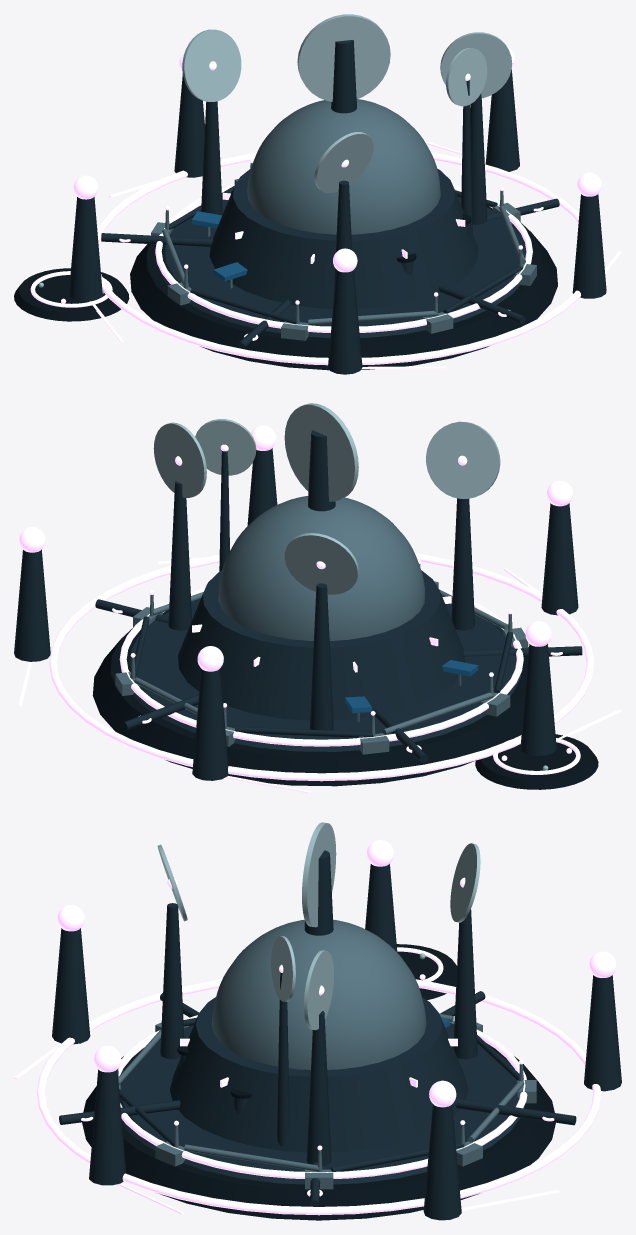
File: researchLab-stage3.glb
The picture shows the model from 3 angles, top to bottom: view 1: azimuth 30°, elevation 25°; view 2: azimuth 150°, elevation 25°; view 3: azimuth 270°, elevation 25°; orthographic projection. The views are drawn at different scales.
Visible parts, largest first — view 1: laboratory-base, observatory-dome, armored-foundation, upper-deck, district-grid-2, deep-space-dish, deep-space-array-2, landing-pad, perimeter-light, energy-pylon-0, energy-pylon-1, energy-pylon-4 (+19 smaller); view 2: laboratory-base, observatory-dome, armored-foundation, upper-deck, district-grid-2, deep-space-array-1, deep-space-dish, landing-pad, perimeter-light, deep-space-array-2, energy-pylon-3, energy-pylon-2 (+21 smaller); view 3: laboratory-base, observatory-dome, armored-foundation, upper-deck, district-grid-2, perimeter-light, energy-pylon-3, energy-pylon-0, energy-pylon-2, energy-pylon-4, array-mast-1, array-mast-2 (+18 smaller).
Boxes of the visible parts, <box> form: laboratory-base: <box>209,168,478,308</box>; observatory-dome: <box>247,99,440,234</box>; armored-foundation: <box>130,206,557,370</box>; upper-deck: <box>157,197,531,338</box>; district-grid-2: <box>97,152,580,365</box>; deep-space-dish: <box>297,14,390,101</box>; deep-space-array-2: <box>182,29,241,101</box>; landing-pad: <box>14,268,129,321</box>; perimeter-light: <box>155,185,532,332</box>; energy-pylon-0: <box>328,269,362,374</box>; energy-pylon-1: <box>69,197,102,301</box>; energy-pylon-4: <box>572,194,606,298</box>; laboratory-base: <box>178,570,465,720</box>; observatory-dome: <box>218,496,425,640</box>; armored-foundation: <box>92,610,528,786</box>; upper-deck: <box>121,599,521,751</box>; district-grid-2: <box>49,553,594,781</box>; deep-space-array-1: <box>426,421,500,498</box>; deep-space-dish: <box>284,403,358,501</box>; landing-pad: <box>475,733,598,789</box>; perimeter-light: <box>119,588,523,746</box>; deep-space-array-2: <box>284,533,358,594</box>; energy-pylon-3: <box>14,549,50,661</box>; energy-pylon-2: <box>192,669,228,780</box>; laboratory-base: <box>169,997,468,1152</box>; observatory-dome: <box>211,919,426,1069</box>; armored-foundation: <box>82,1024,555,1220</box>; upper-deck: <box>119,1025,525,1184</box>; district-grid-2: <box>36,979,601,1215</box>; perimeter-light: <box>118,1015,527,1178</box>; energy-pylon-3: <box>423,1104,461,1220</box>; energy-pylon-0: <box>52,928,90,1044</box>; energy-pylon-2: <box>584,975,621,1091</box>; energy-pylon-4: <box>89,1069,126,1185</box>; array-mast-1: <box>160,903,184,1059</box>; array-mast-2: <box>453,909,477,1059</box>.
Bounding box in the file's own units: 14.89 × 7.29 × 13.71.
